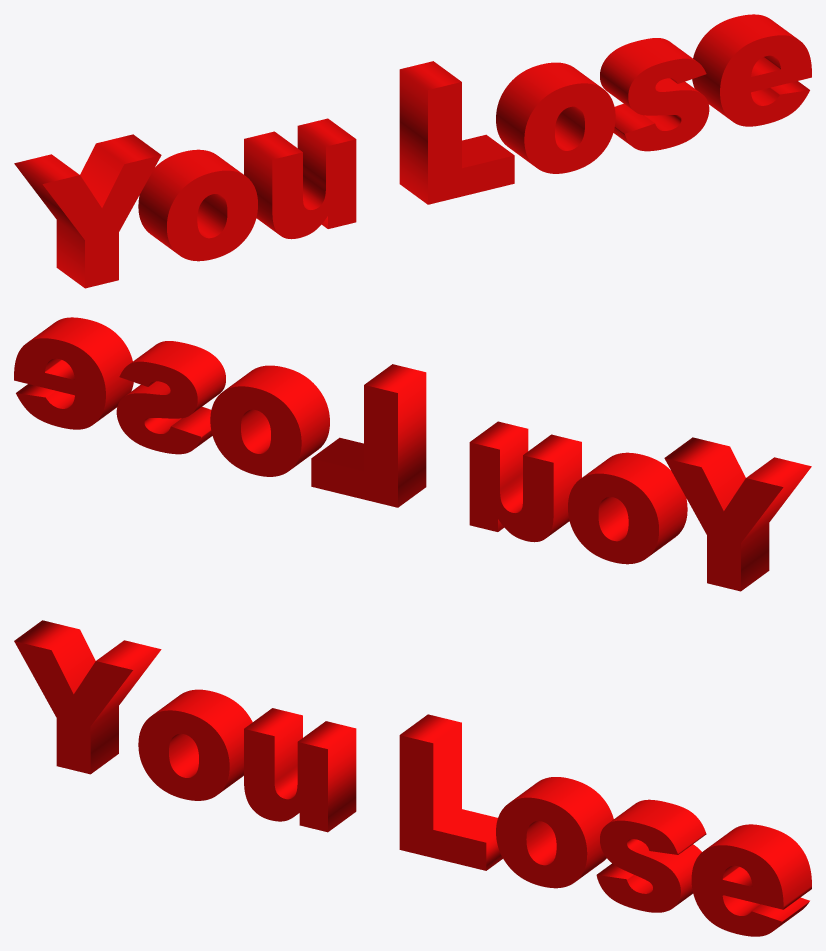
The model's file is youlose.obj.
The picture shows the model from 3 angles, top to bottom: view 1: azimuth 30°, elevation 25°; view 2: azimuth 150°, elevation 25°; view 3: azimuth 330°, elevation 25°; orthographic projection.
Visible parts, largest first — view 1: youlose_Mesh.001; view 2: youlose_Mesh.001; view 3: youlose_Mesh.001.
Part boxes in pixels (x1,y1,x2,y2): youlose_Mesh.001: (14,14,811,288); youlose_Mesh.001: (14,317,811,591); youlose_Mesh.001: (14,620,811,936).
Bounding box in the file's own units: 15.64 × 2.27 × 1.
